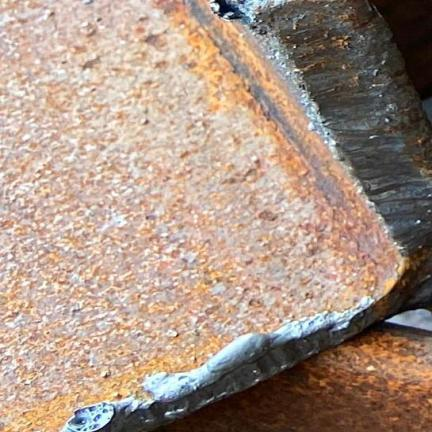karat: (0, 0, 401, 431)
